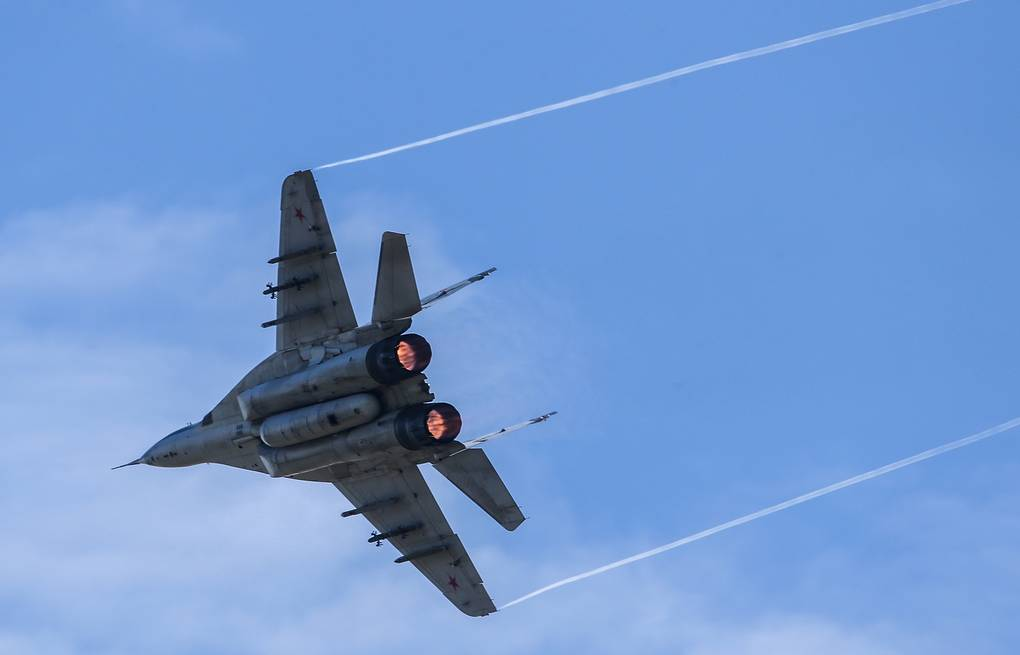Mig-29: (97, 126, 576, 602)
